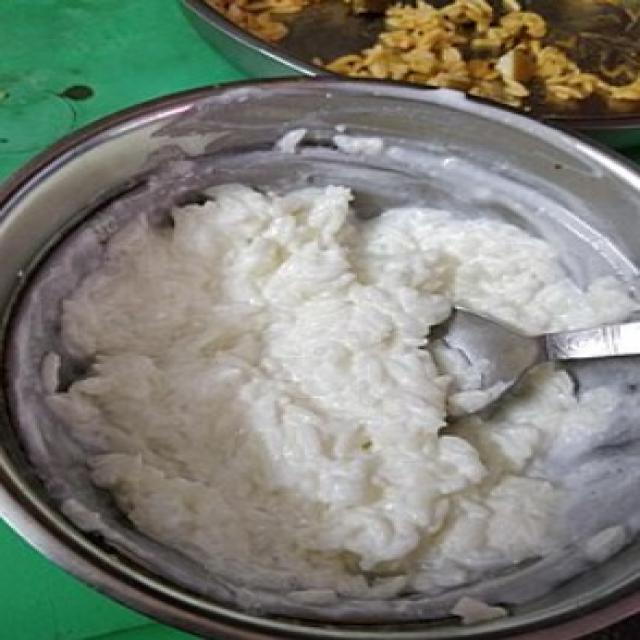CURD RICE: (33, 179, 638, 627)
